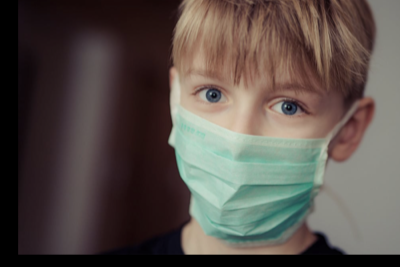with_mask: (172, 65, 331, 234)
